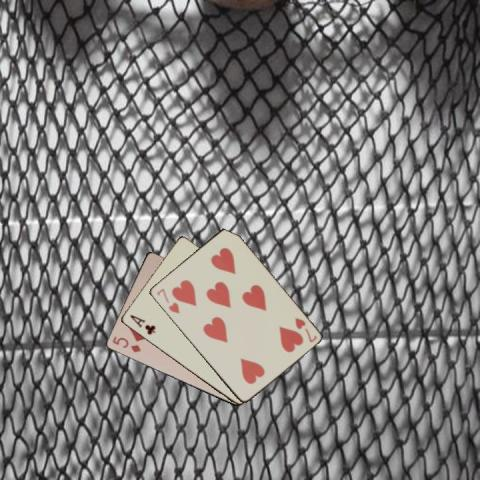5d: (109, 333, 143, 354)
7h: (153, 285, 181, 315), (291, 315, 318, 344)
Ac: (126, 312, 156, 336)
